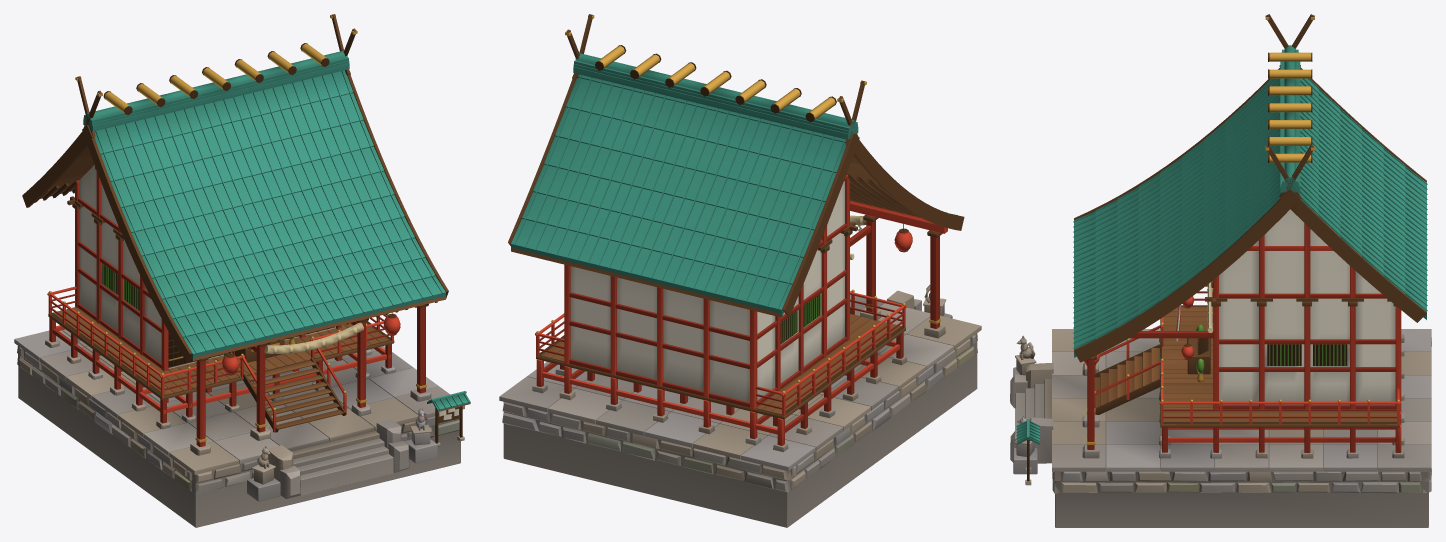
Rendered from shrine.glb.
3 views of the same model, side by side, from view 1: azimuth 30°, elevation 25°; view 2: azimuth 150°, elevation 25°; view 3: azimuth 270°, elevation 25° (orthographic). The views are drawn at different scales.
Visible parts, largest first — view 1: Shrine Copper roof, Shrine Plaster, Shrine Wood, Shrine Vermilion, Shrine Brass, Shrine Leaf, Shrine Lantern glow; view 2: Shrine Plaster, Shrine Copper roof, Shrine Vermilion, Shrine Wood, Shrine Brass, Shrine Leaf; view 3: Shrine Plaster, Shrine Copper roof, Shrine Wood, Shrine Vermilion, Shrine Brass, Shrine Leaf.
Boxes of the visible parts, left/top/right/bottom form: Shrine Copper roof: left=83, top=50, right=470, bottom=411; Shrine Plaster: left=14, top=165, right=464, bottom=527; Shrine Wood: left=22, top=14, right=470, bottom=443; Shrine Vermilion: left=47, top=166, right=425, bottom=456; Shrine Brass: left=48, top=15, right=426, bottom=442; Shrine Leaf: left=102, top=264, right=294, bottom=354; Shrine Lantern glow: left=222, top=316, right=400, bottom=374; Shrine Plaster: left=499, top=181, right=981, bottom=527; Shrine Copper roof: left=511, top=53, right=957, bottom=317; Shrine Vermilion: left=535, top=174, right=947, bottom=445; Shrine Wood: left=508, top=14, right=964, bottom=419; Shrine Brass: left=536, top=14, right=940, bottom=393; Shrine Leaf: left=781, top=294, right=820, bottom=343; Shrine Plaster: left=1010, top=209, right=1431, bottom=527; Shrine Copper roof: left=1016, top=45, right=1427, bottom=444; Shrine Wood: left=1027, top=14, right=1426, bottom=481; Shrine Vermilion: left=1022, top=223, right=1401, bottom=452; Shrine Brass: left=1086, top=15, right=1399, bottom=444; Shrine Leaf: left=1196, top=324, right=1345, bottom=373.
Size of the model in its own units: 11.55 by 14.74 by 14.82.
